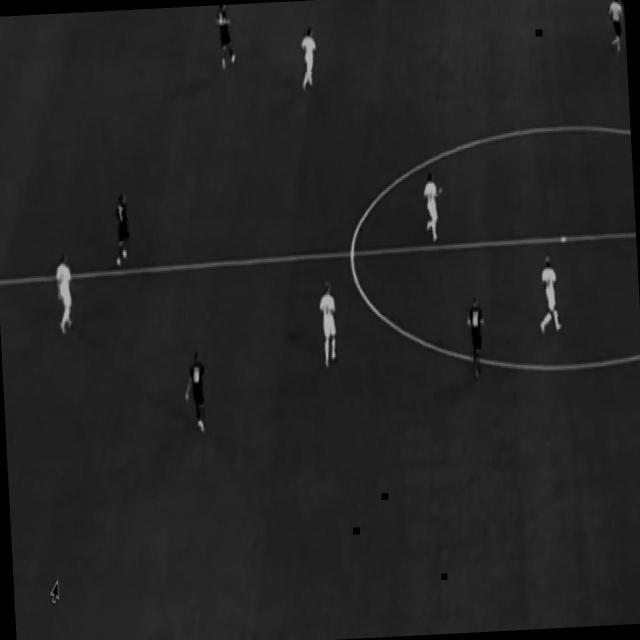player-white: (180, 347, 212, 440), (534, 252, 564, 338), (52, 248, 78, 344), (316, 278, 341, 374), (464, 292, 490, 384), (109, 189, 135, 274), (419, 172, 447, 246), (213, 4, 238, 74), (297, 23, 321, 95), (606, 0, 626, 60), (616, 0, 624, 22)
